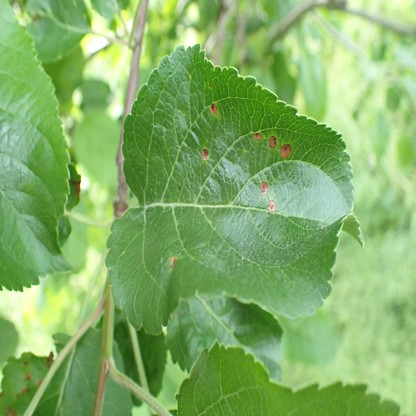frogeye_leaf_spot: (280, 144, 291, 157), (269, 135, 277, 148), (261, 182, 267, 195), (269, 201, 276, 212), (201, 149, 208, 158), (253, 133, 262, 140), (211, 103, 217, 113), (171, 258, 177, 267)
